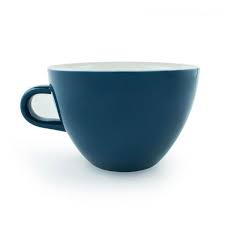cup: (17, 57, 204, 177)
